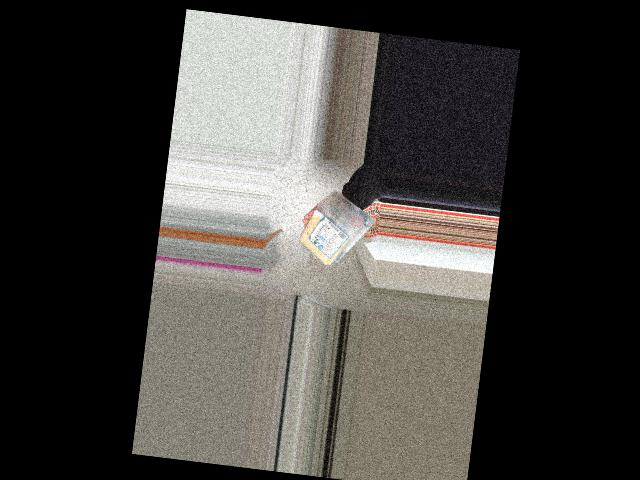cheese: (303, 199, 348, 268)
